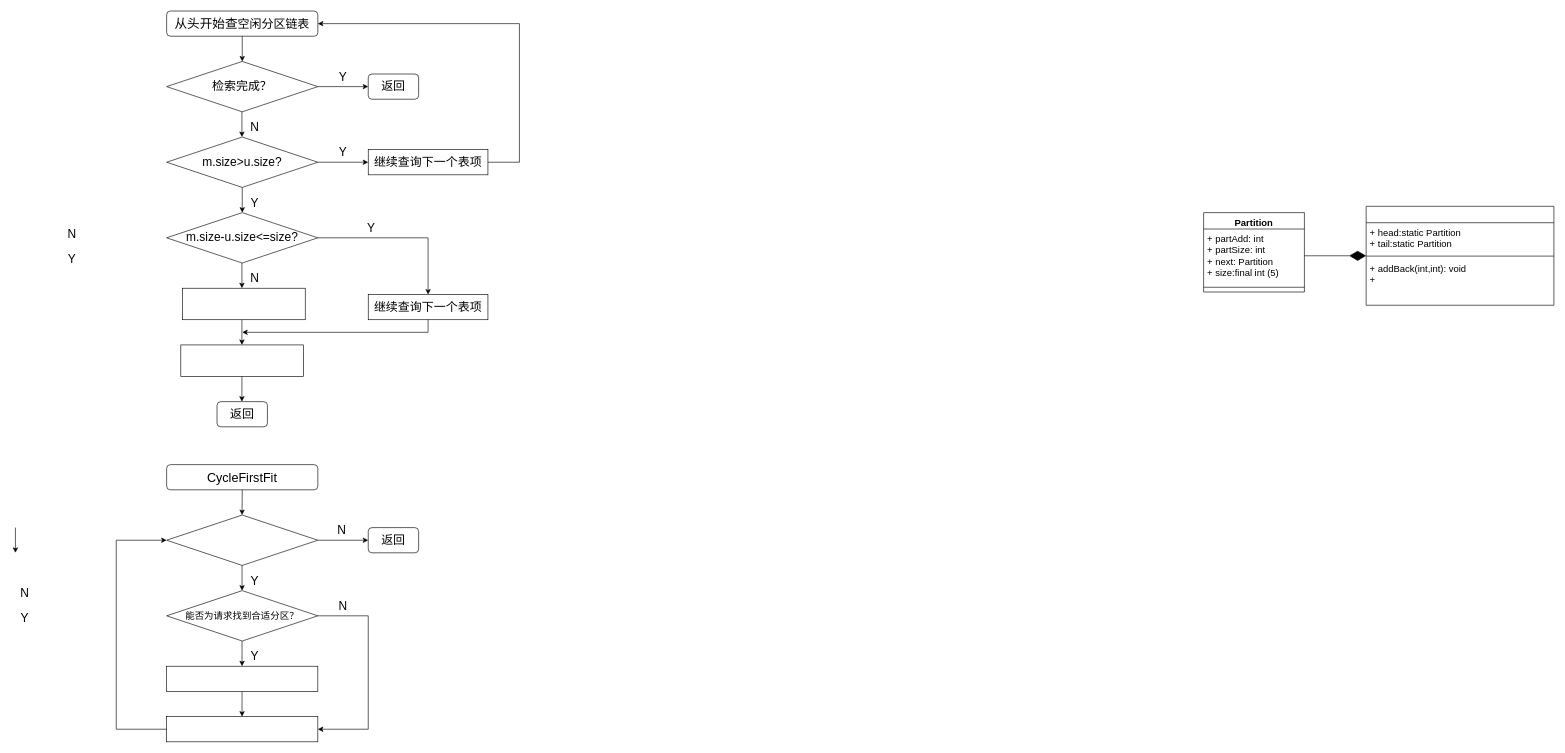
Some shapes in this 1565 by 753 pixel diagram are drawn without their labels. Each missing label, with the box of its shape:
Free_Part: (1366, 206, 1554, 305)
从该分区划出u.size大小的分区: (182, 288, 305, 320)
分配分区: (166, 666, 318, 691)
回收、分区整理: (166, 716, 318, 742)
将该分区分配给请求者，修改有关数据结构: (180, 344, 304, 376)
是否有新请求？: (166, 514, 318, 565)
